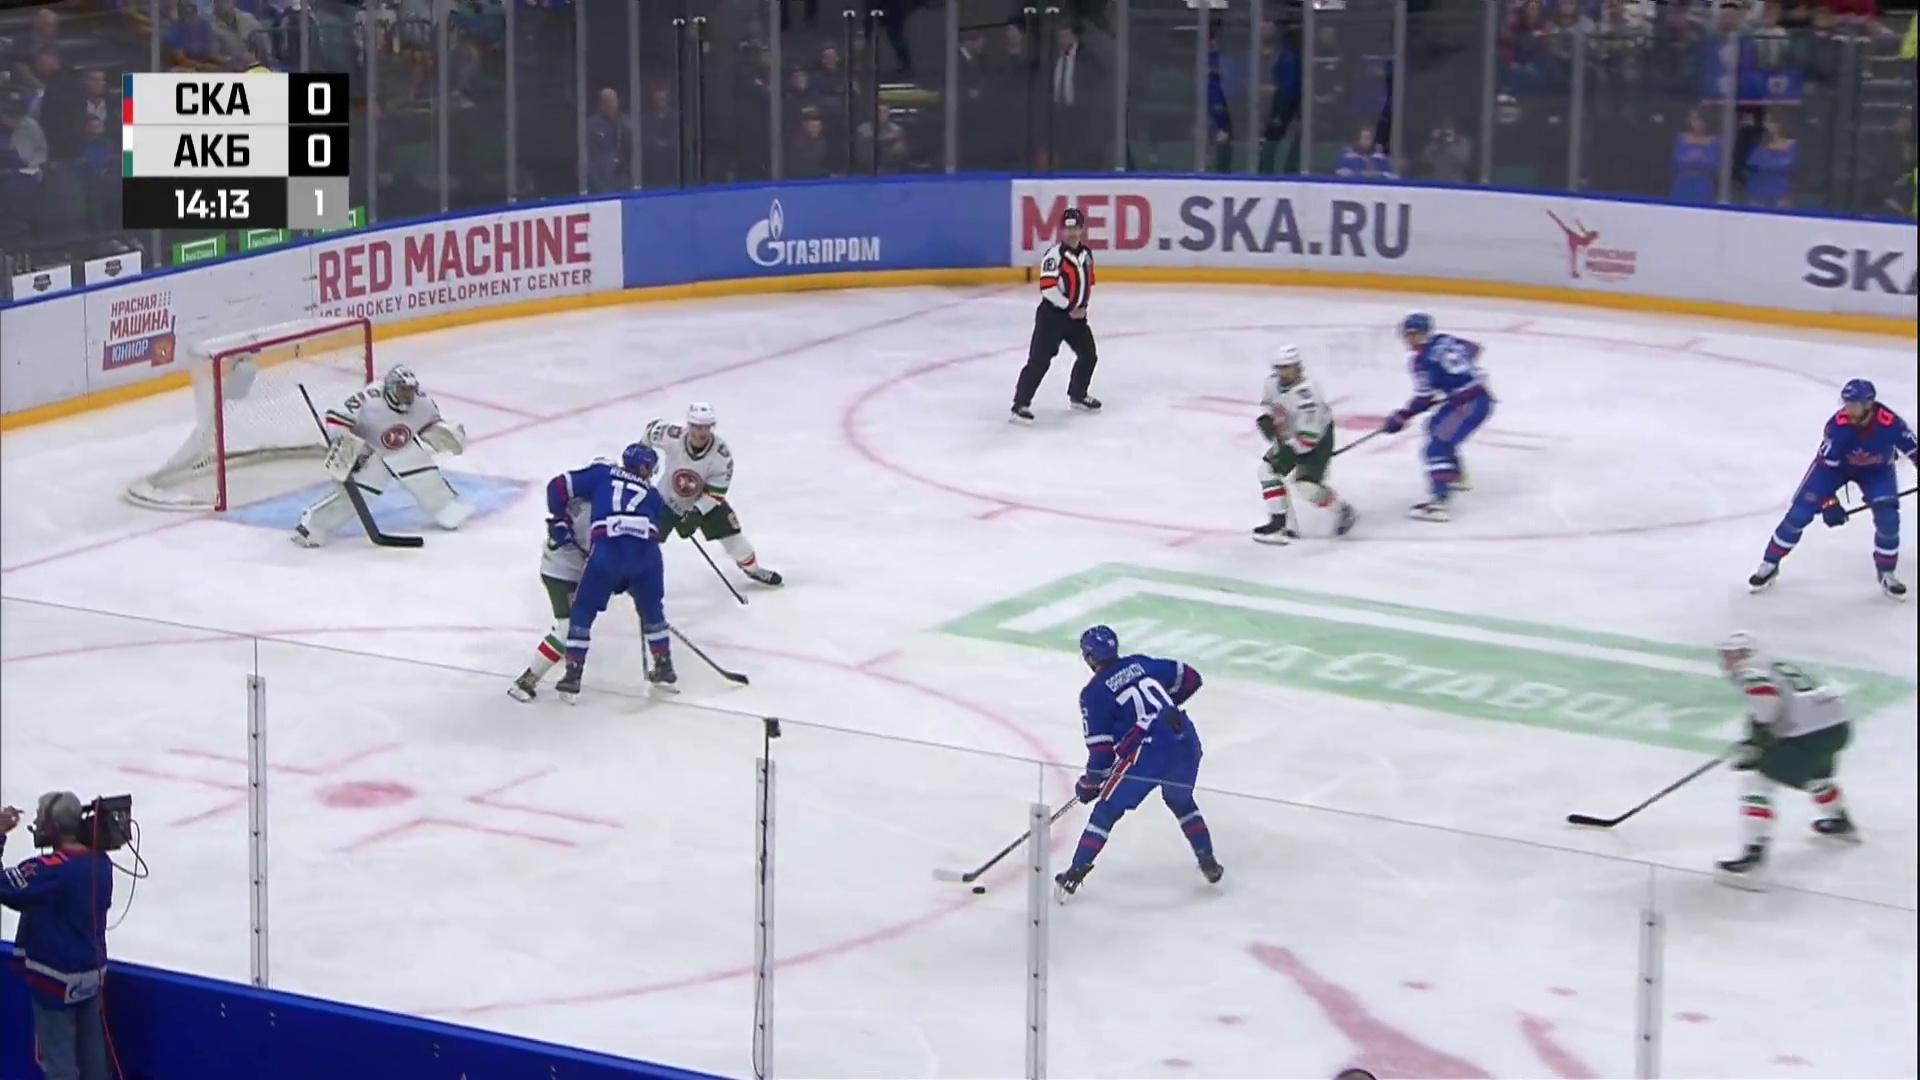ball: (972, 886, 986, 895)
